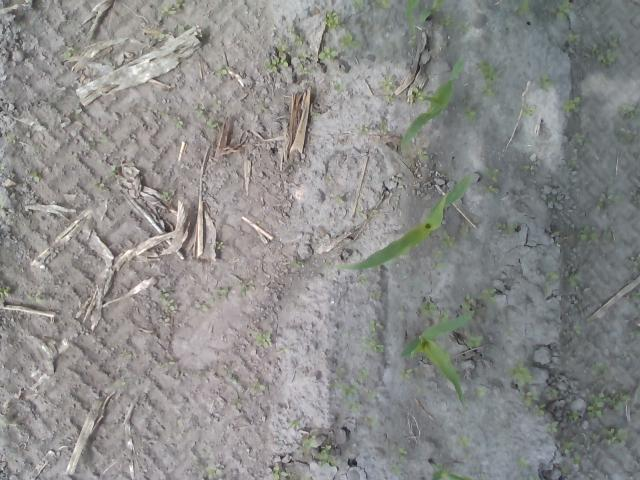Maize: (336, 172, 471, 271), (398, 310, 474, 408), (404, 54, 467, 146), (405, 0, 442, 26), (428, 457, 468, 480)
Weeds: (268, 36, 316, 72), (592, 32, 622, 66), (586, 394, 624, 418), (360, 322, 384, 354), (600, 426, 635, 446), (478, 62, 498, 96), (506, 360, 533, 385), (560, 441, 584, 468), (438, 15, 471, 34), (381, 73, 398, 102), (391, 447, 408, 475), (159, 288, 178, 311), (430, 248, 448, 271), (159, 0, 184, 16), (486, 166, 500, 194), (600, 192, 624, 208), (578, 224, 600, 241), (560, 95, 580, 112), (323, 12, 340, 29), (254, 330, 272, 346), (442, 231, 457, 250), (316, 46, 336, 60), (340, 34, 360, 48), (319, 448, 335, 464), (421, 299, 437, 315), (204, 464, 222, 478), (496, 222, 515, 235), (480, 289, 497, 303), (464, 293, 478, 310), (558, 0, 570, 19), (372, 0, 394, 10), (30, 292, 48, 304), (540, 75, 554, 90), (63, 46, 80, 58), (522, 104, 536, 118), (464, 107, 478, 121), (409, 87, 422, 102), (567, 271, 579, 287), (546, 270, 562, 282), (630, 253, 640, 272), (520, 390, 533, 404), (516, 456, 530, 469), (518, 0, 531, 14), (468, 334, 483, 346), (532, 403, 548, 414), (272, 463, 282, 480), (544, 386, 558, 398), (358, 369, 370, 383), (456, 434, 468, 448), (399, 368, 414, 379), (215, 66, 228, 78), (546, 420, 559, 432), (341, 386, 356, 396), (476, 385, 487, 398), (567, 412, 580, 423), (572, 134, 586, 144), (348, 401, 360, 412), (566, 158, 579, 168), (0, 285, 10, 298), (350, 0, 364, 9), (303, 437, 314, 448), (238, 284, 248, 296), (228, 374, 238, 386), (366, 416, 378, 426), (215, 287, 228, 296), (358, 122, 368, 133), (568, 33, 578, 44), (206, 118, 217, 128), (520, 162, 530, 172), (294, 260, 305, 269), (164, 190, 173, 200), (367, 391, 376, 400), (32, 175, 42, 183), (175, 119, 183, 128)
